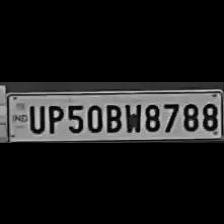0: (84, 100, 104, 132)
5: (64, 100, 84, 132)
7: (160, 99, 178, 131)
8: (141, 100, 161, 132), (180, 99, 200, 131), (198, 99, 218, 131)
B: (102, 100, 122, 132)
P: (45, 100, 63, 134)
U: (24, 101, 44, 133)
W: (122, 98, 142, 132)
